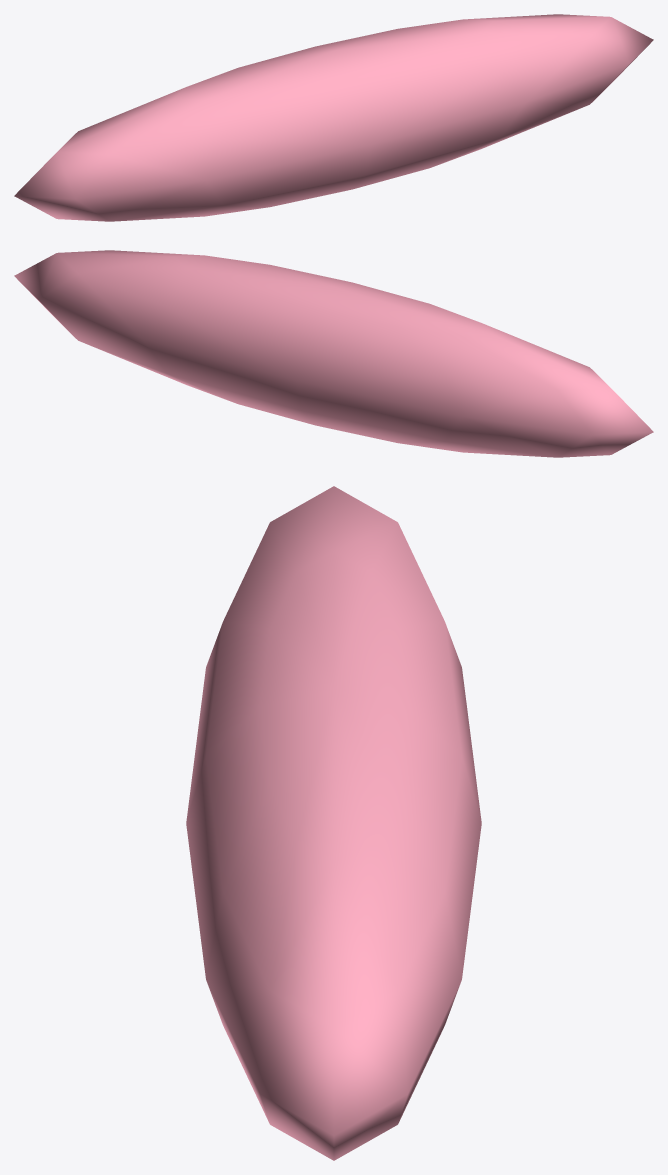
The model's file is LaserPistol2.fbx.
3 renders of one model, top to bottom at view 1: azimuth 30°, elevation 25°; view 2: azimuth 150°, elevation 25°; view 3: azimuth 270°, elevation 25°, orthographic. The views are drawn at different scales.
Parts seen in each view (by area): view 1: laser_rose; view 2: laser_rose; view 3: laser_rose.
Boxes of the visible parts, x1,y1,x2,y2 form: laser_rose: (14, 14, 653, 221); laser_rose: (14, 250, 653, 457); laser_rose: (186, 486, 481, 1160).
Size of the model in its own units: 0.6 by 0.12 by 0.12.
